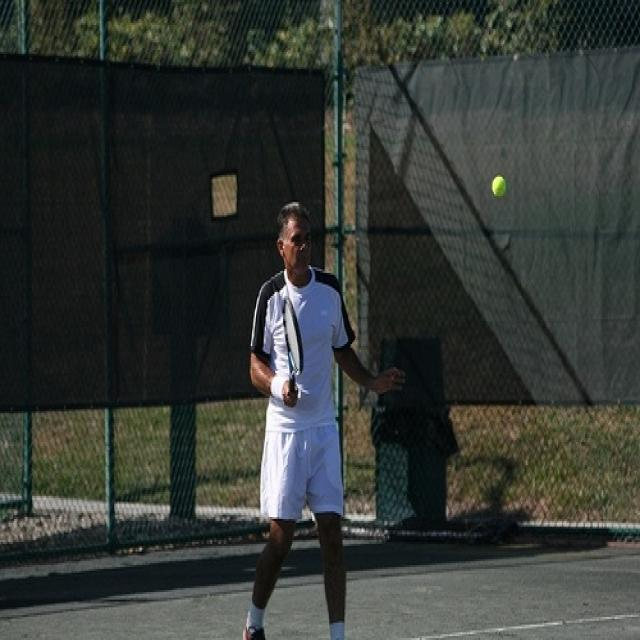ball: (490, 173, 506, 196)
